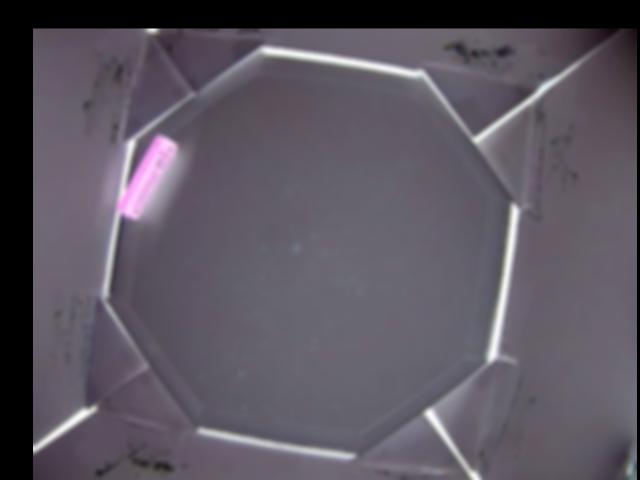Battery: (116, 134, 178, 221)
